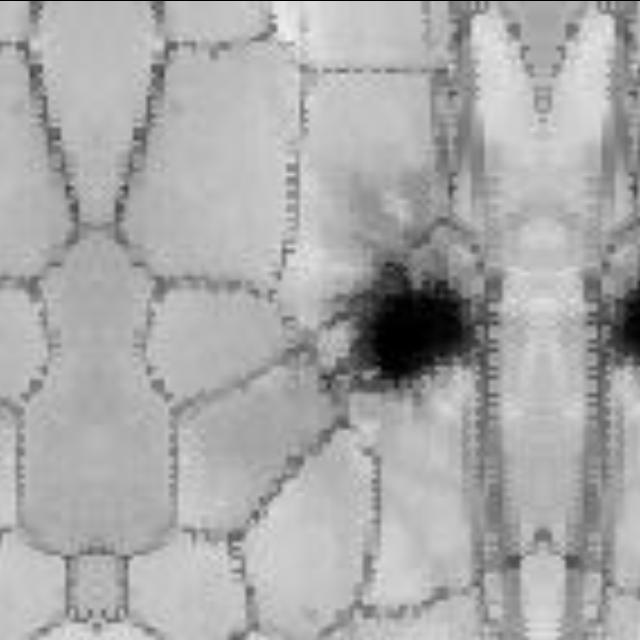good_void: (313, 254, 494, 403), (590, 277, 640, 381)
